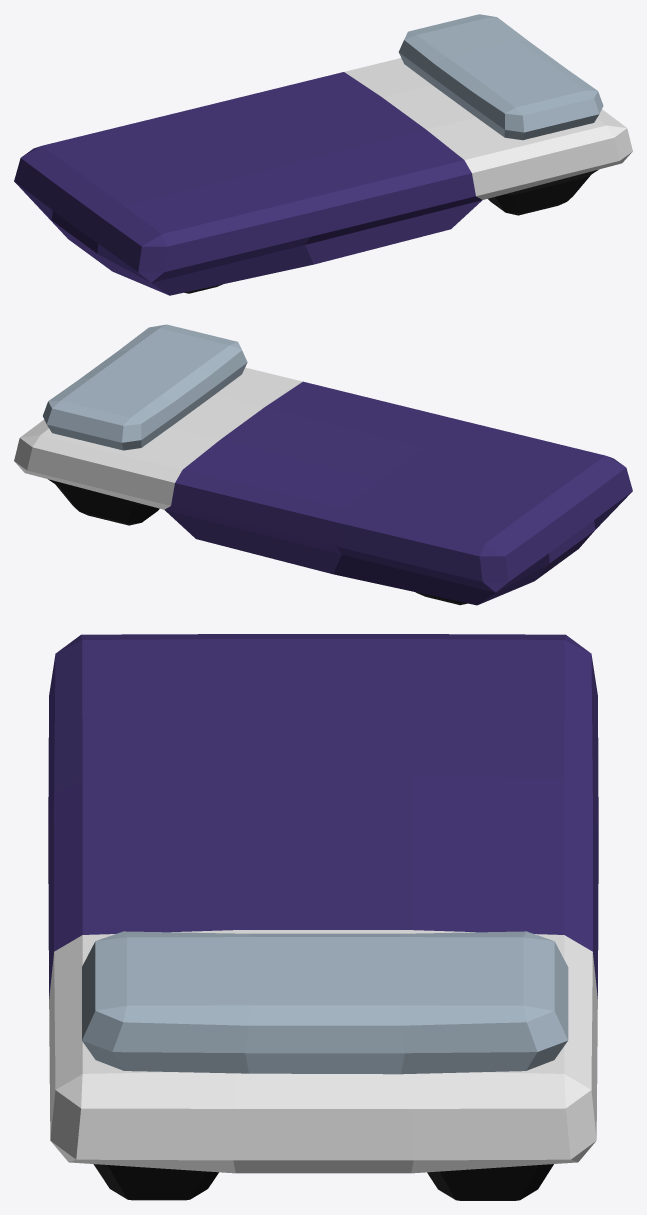
File: cama.glb
3 renders of one model, top to bottom at view 1: azimuth 30°, elevation 25°; view 2: azimuth 150°, elevation 25°; view 3: azimuth 270°, elevation 25°, orthographic. The views are drawn at different scales.
Visible parts, largest first — view 1: Cube; view 2: Cube; view 3: Cube.
Part boxes in pixels (x1,y1,x2,y2): Cube: (14,14,632,295); Cube: (14,324,632,605); Cube: (48,634,598,1200).
Bounding box in the file's own units: 5.24 × 1.11 × 2.51.
